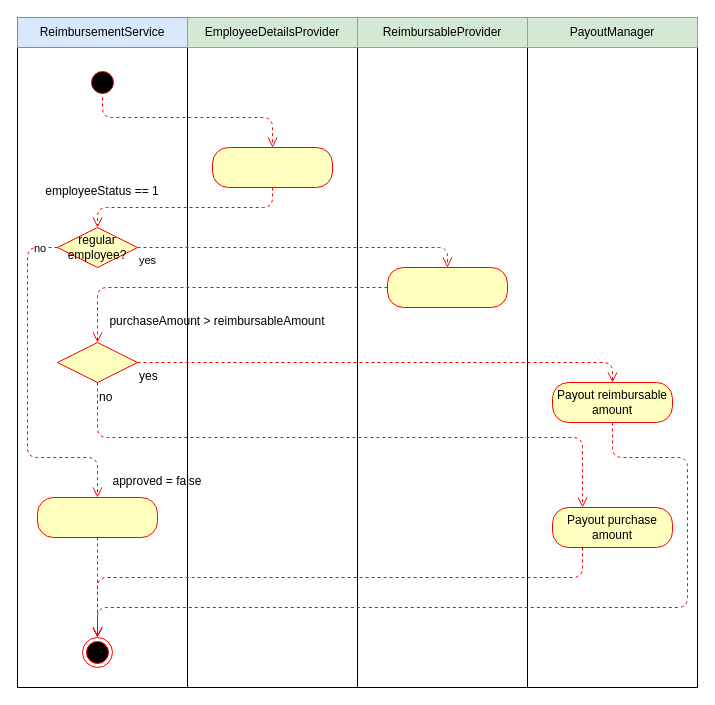
The diagram is 715 pixels wide and 705 high, and some of its shapes have lost their labels. Here are the shapes that lost their labels. From the top down, the centre of each, then its label:
the point at 272,167: Get EmployeeDetails
the point at 447,287: Get Reimbursable
the point at 97,362: amount exceeded?
the point at 97,517: No payout
